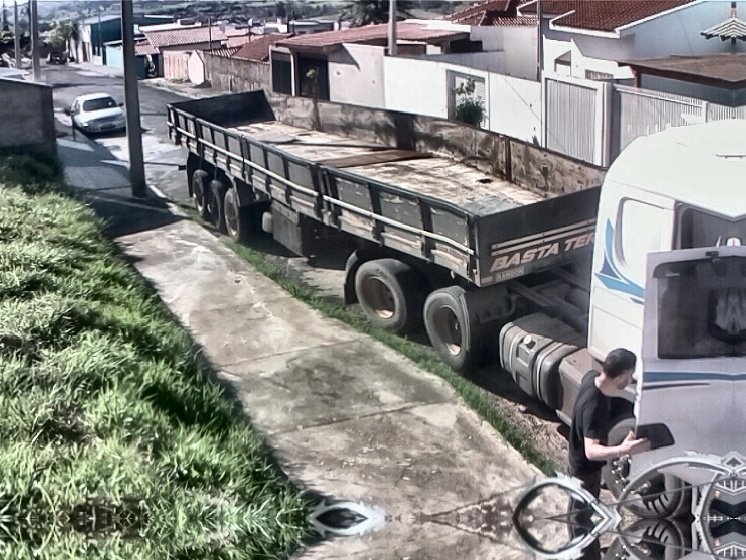person: (563, 347, 651, 560)
